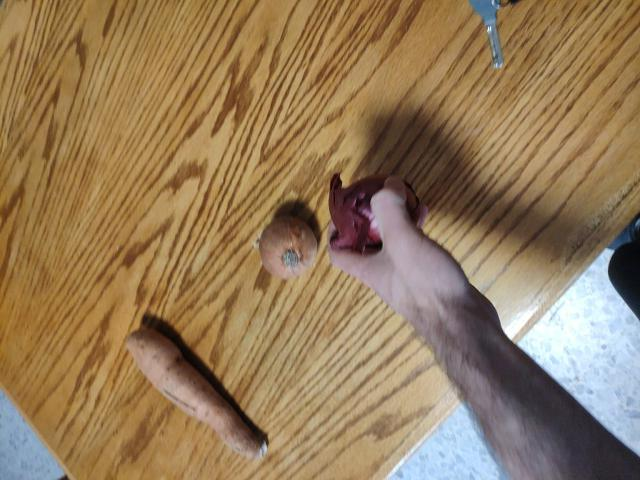onion: (261, 223, 338, 298)
